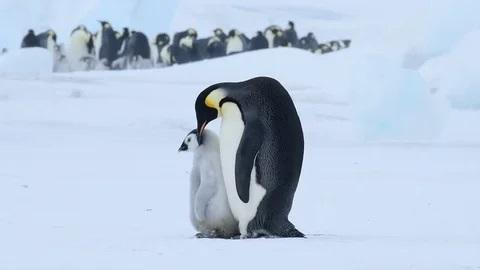emporer: (181, 69, 316, 246)
